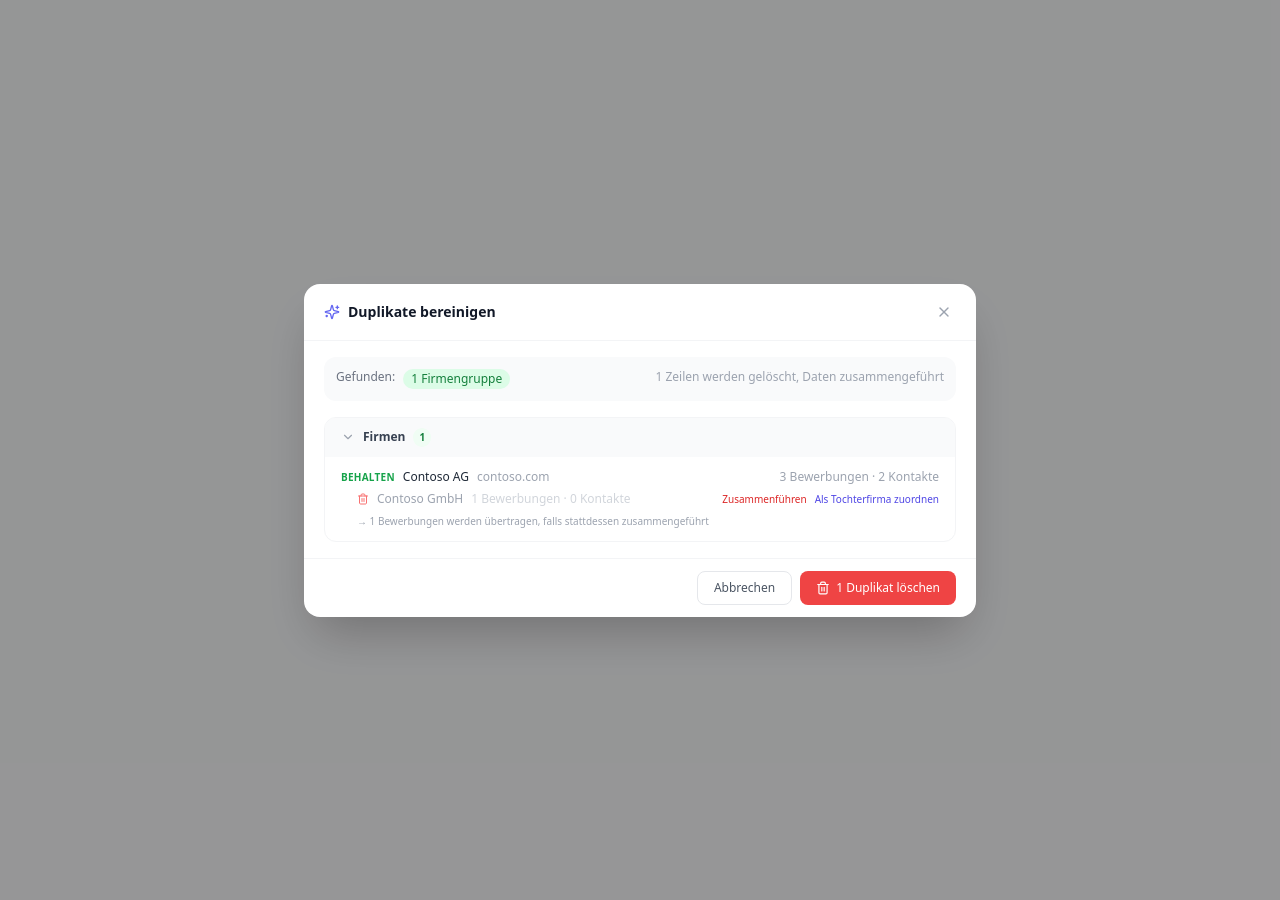
Scenario: CleanupModal — company duplicate row offers Merge alongside Assign as subsidiary › positiv: nach erfolgreichem Merge wird die Zeile als "Zusammengeführt" markiert und die Vorschau neu geladen
Expected: the text "Contoso GmbH" is shown, [377, 490, 463, 506]
Click the button "Zusammenführen" at (764, 498), box [722, 490, 807, 506]
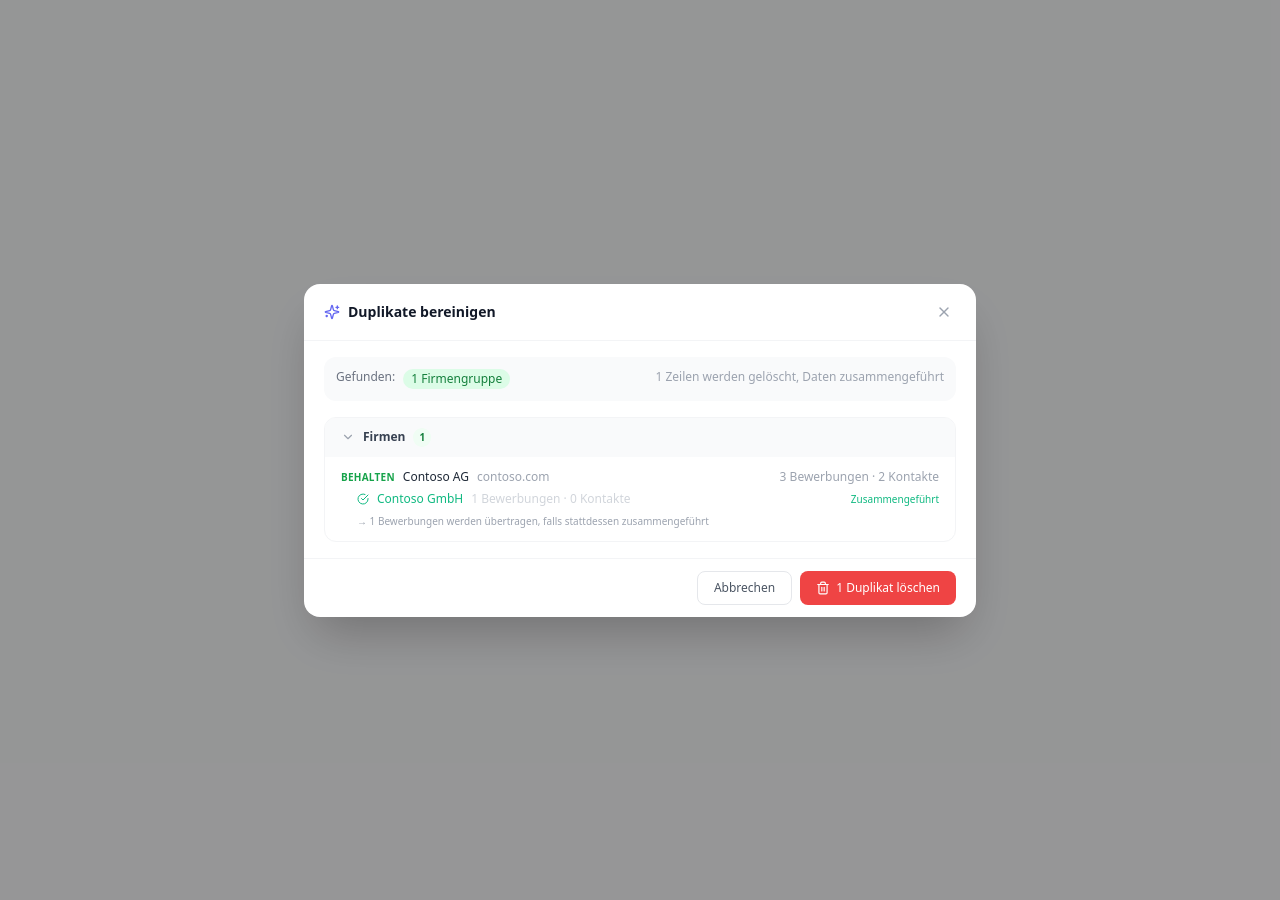
Expected: the text "Zusammengeführt" is shown, [851, 490, 939, 506]
